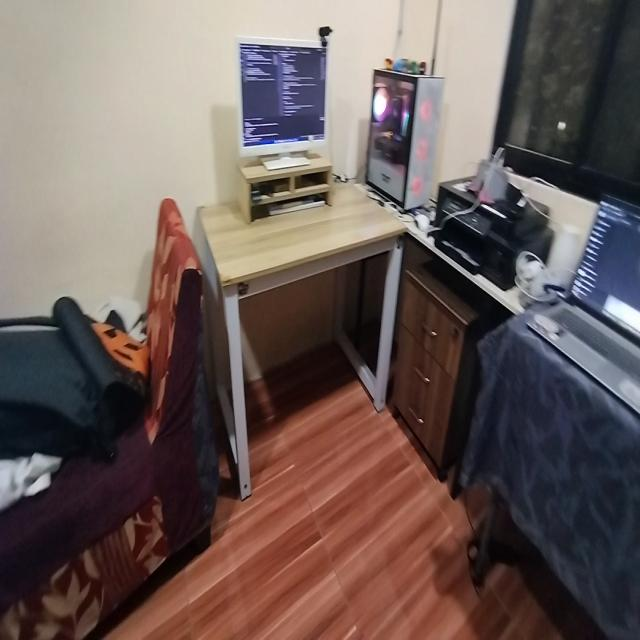table: (200, 167, 410, 473)
